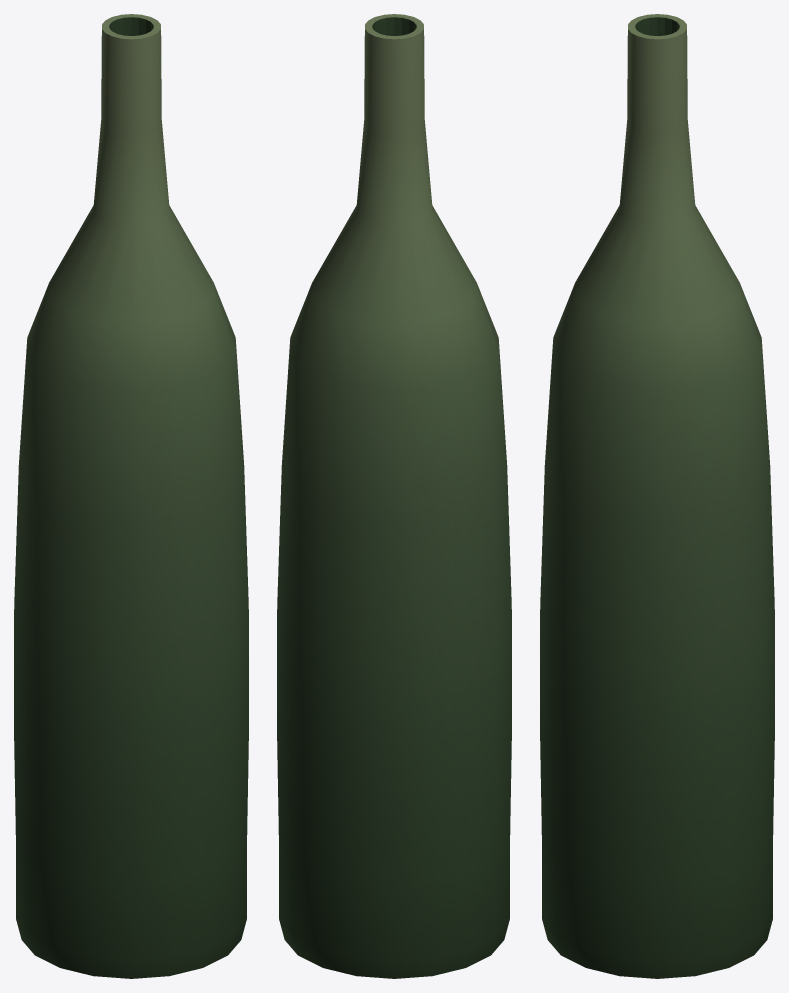
Rendered from M_bottle.FBX.
The picture shows the model from 3 angles, left to right: view 1: azimuth 30°, elevation 25°; view 2: azimuth 150°, elevation 25°; view 3: azimuth 270°, elevation 25°; orthographic projection.
Parts seen in each view (by area): view 1: Cylinder006; view 2: Cylinder006; view 3: Cylinder006.
Boxes of the visible parts, box(x1,y1,x2,y2) form: Cylinder006: box(14, 14, 248, 978); Cylinder006: box(277, 14, 511, 978); Cylinder006: box(540, 14, 774, 978).
Bounding box in the file's own units: 10.87 × 10.7 × 45.85.
